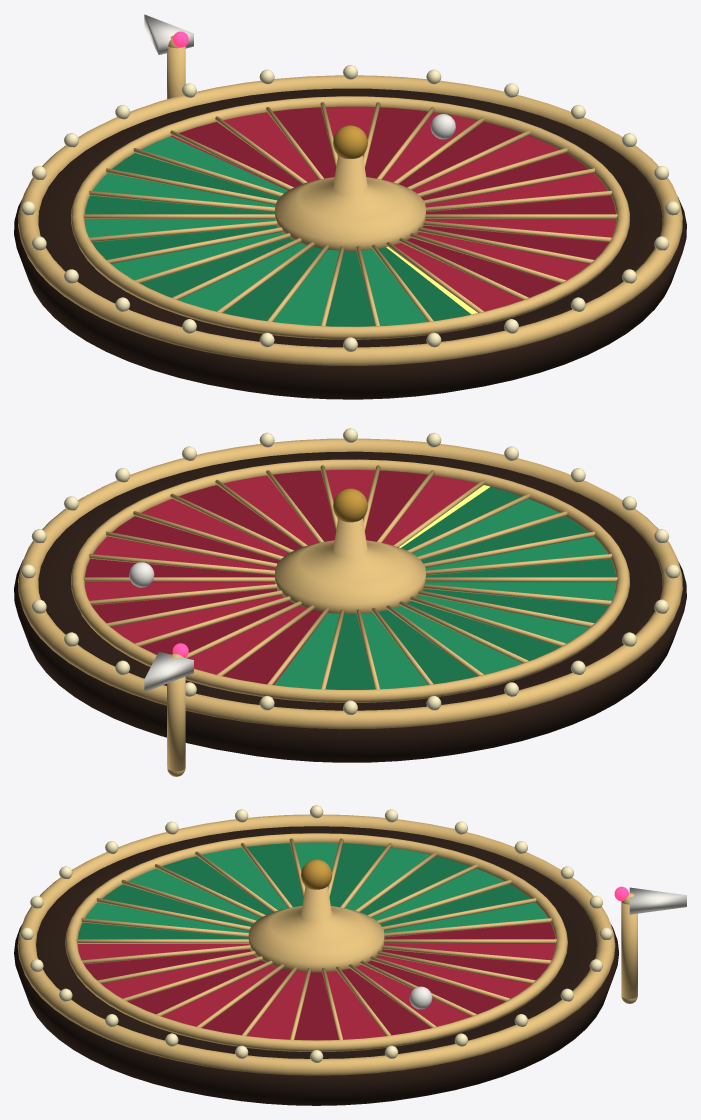
File: casino_roulette.fbx
3 views of the same model, one above another, from view 1: azimuth 30°, elevation 25°; view 2: azimuth 150°, elevation 25°; view 3: azimuth 270°, elevation 25° (orthographic). The views are drawn at different scales.
Visible parts, largest first — view 1: casino_roulette; view 2: casino_roulette; view 3: casino_roulette.
Part boxes in pixels (x1,y1,x2,y2): casino_roulette: [14, 14, 686, 399]; casino_roulette: [14, 428, 686, 776]; casino_roulette: [14, 805, 686, 1105].
Bounding box in the file's own units: 1.16 × 0.301 × 1.29.
